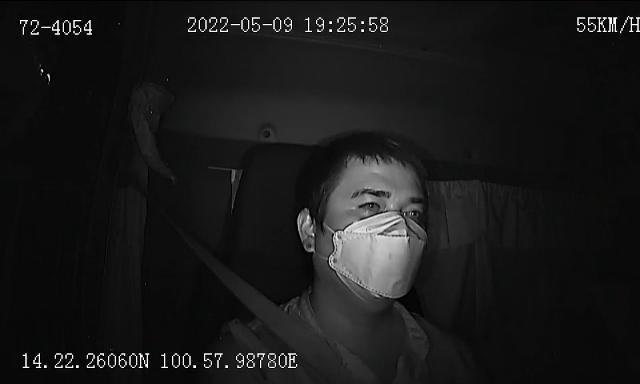SafeDriving: (351, 194, 387, 216)
Seatbelt: (204, 250, 366, 384)
